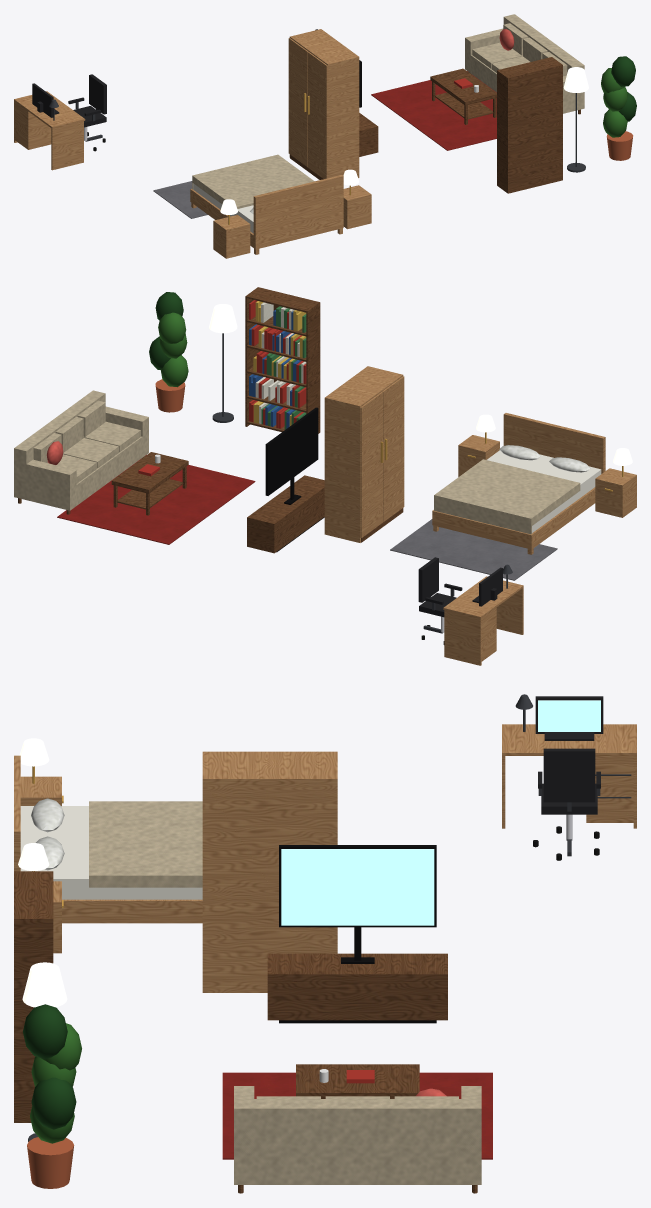
The model's file is i_iceland_turf_house.gltf.
3 renders of one model, top to bottom at view 1: azimuth 30°, elevation 25°; view 2: azimuth 150°, elevation 25°; view 3: azimuth 270°, elevation 25°, orthographic. The views are drawn at different scales.
Visible parts, largest first — view 1: I_iceland_turf_house; view 2: I_iceland_turf_house; view 3: I_iceland_turf_house.
Part boxes in pixels (x1,y1,x2,y2): I_iceland_turf_house: [14, 14, 636, 258]; I_iceland_turf_house: [14, 287, 636, 665]; I_iceland_turf_house: [14, 694, 636, 1193].
Bounding box in the file's own units: 8.29 × 2.1 × 5.54.
26 materials, 8 textured.
